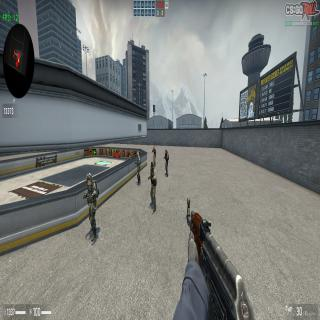CT-Body: (83, 173, 99, 242), (148, 162, 158, 212), (135, 152, 142, 186), (163, 149, 170, 177)
CT-Head: (86, 173, 92, 186), (150, 162, 154, 171), (136, 152, 139, 158), (165, 149, 167, 154)
T-Body: (152, 146, 156, 167)
T-Head: (153, 146, 155, 150)
